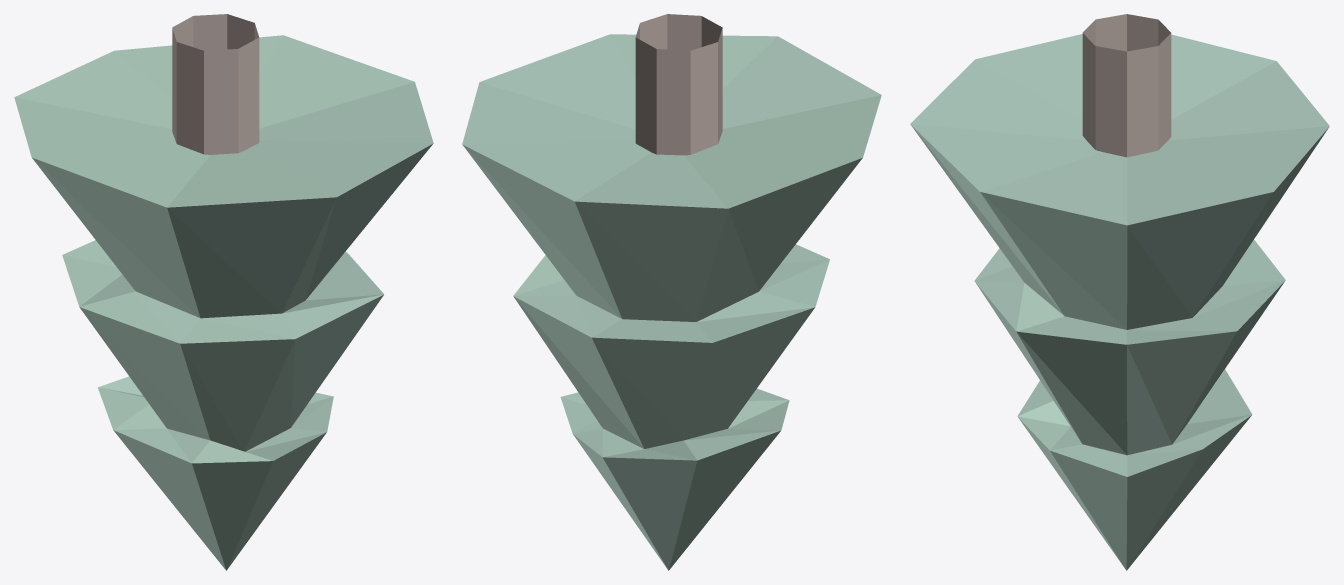
File: TreeSpruce.fbx
3 views of the same model, side by side, from view 1: azimuth 30°, elevation 25°; view 2: azimuth 150°, elevation 25°; view 3: azimuth 270°, elevation 25° (orthographic).
Visible parts, largest first — view 1: Leaves, Trunk; view 2: Leaves, Trunk; view 3: Leaves, Trunk.
Boxes of the visible parts, <box> form: Leaves: <box>14,35,433,570</box>; Trunk: <box>172,14,259,154</box>; Leaves: <box>462,34,881,570</box>; Trunk: <box>635,14,722,155</box>; Leaves: <box>910,34,1329,570</box>; Trunk: <box>1082,14,1171,157</box>.
Size of the model in its own units: 30.72 by 41.42 by 29.56.
